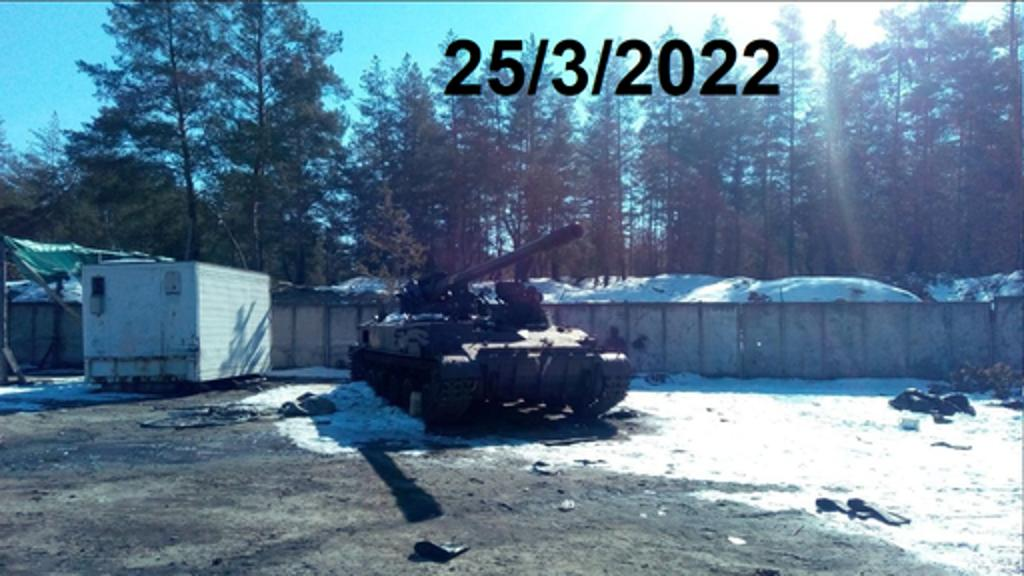ART: (348, 216, 636, 426)
